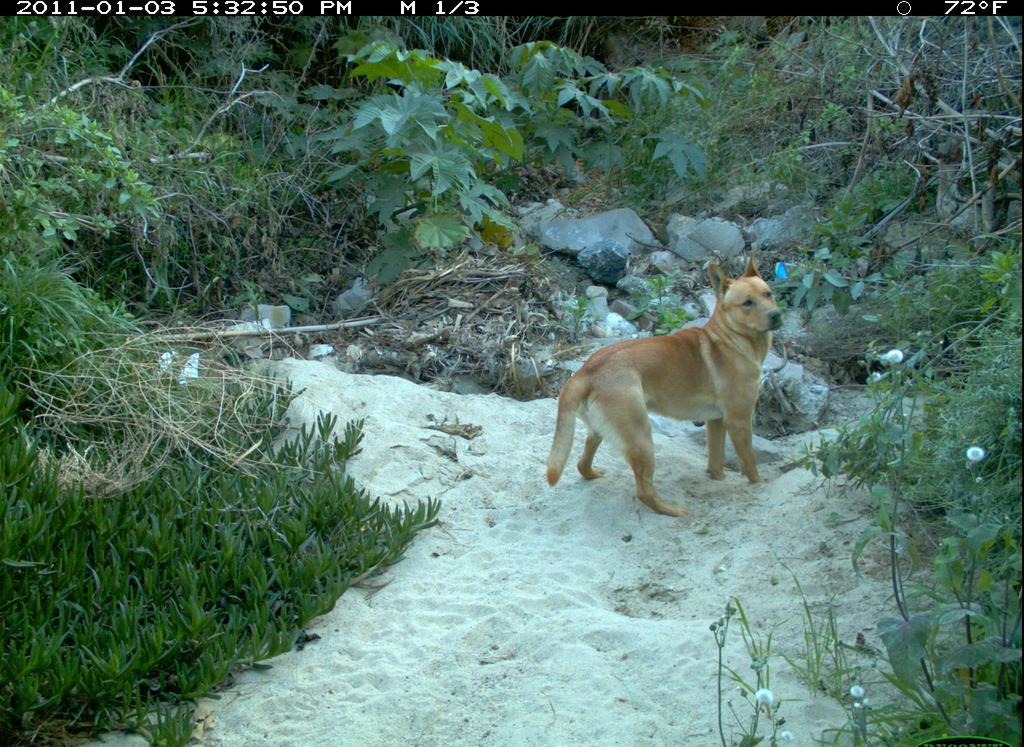dog: (521, 265, 797, 505)
